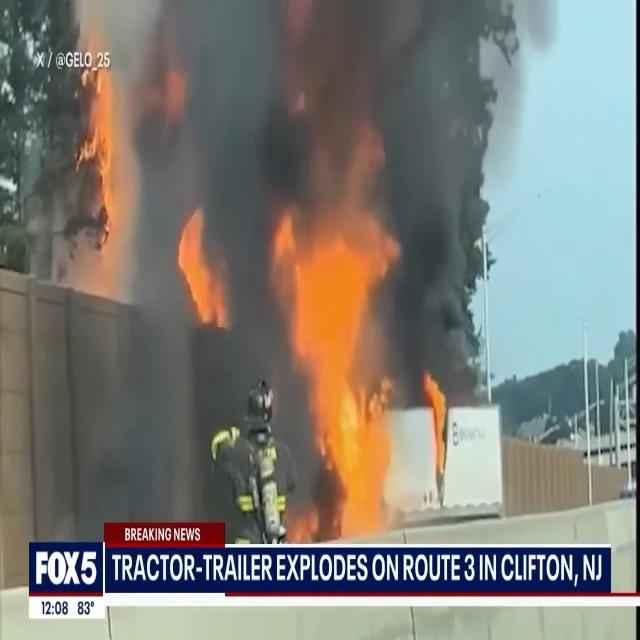fire: (281, 215, 403, 548), (81, 59, 124, 240), (177, 216, 230, 327)
